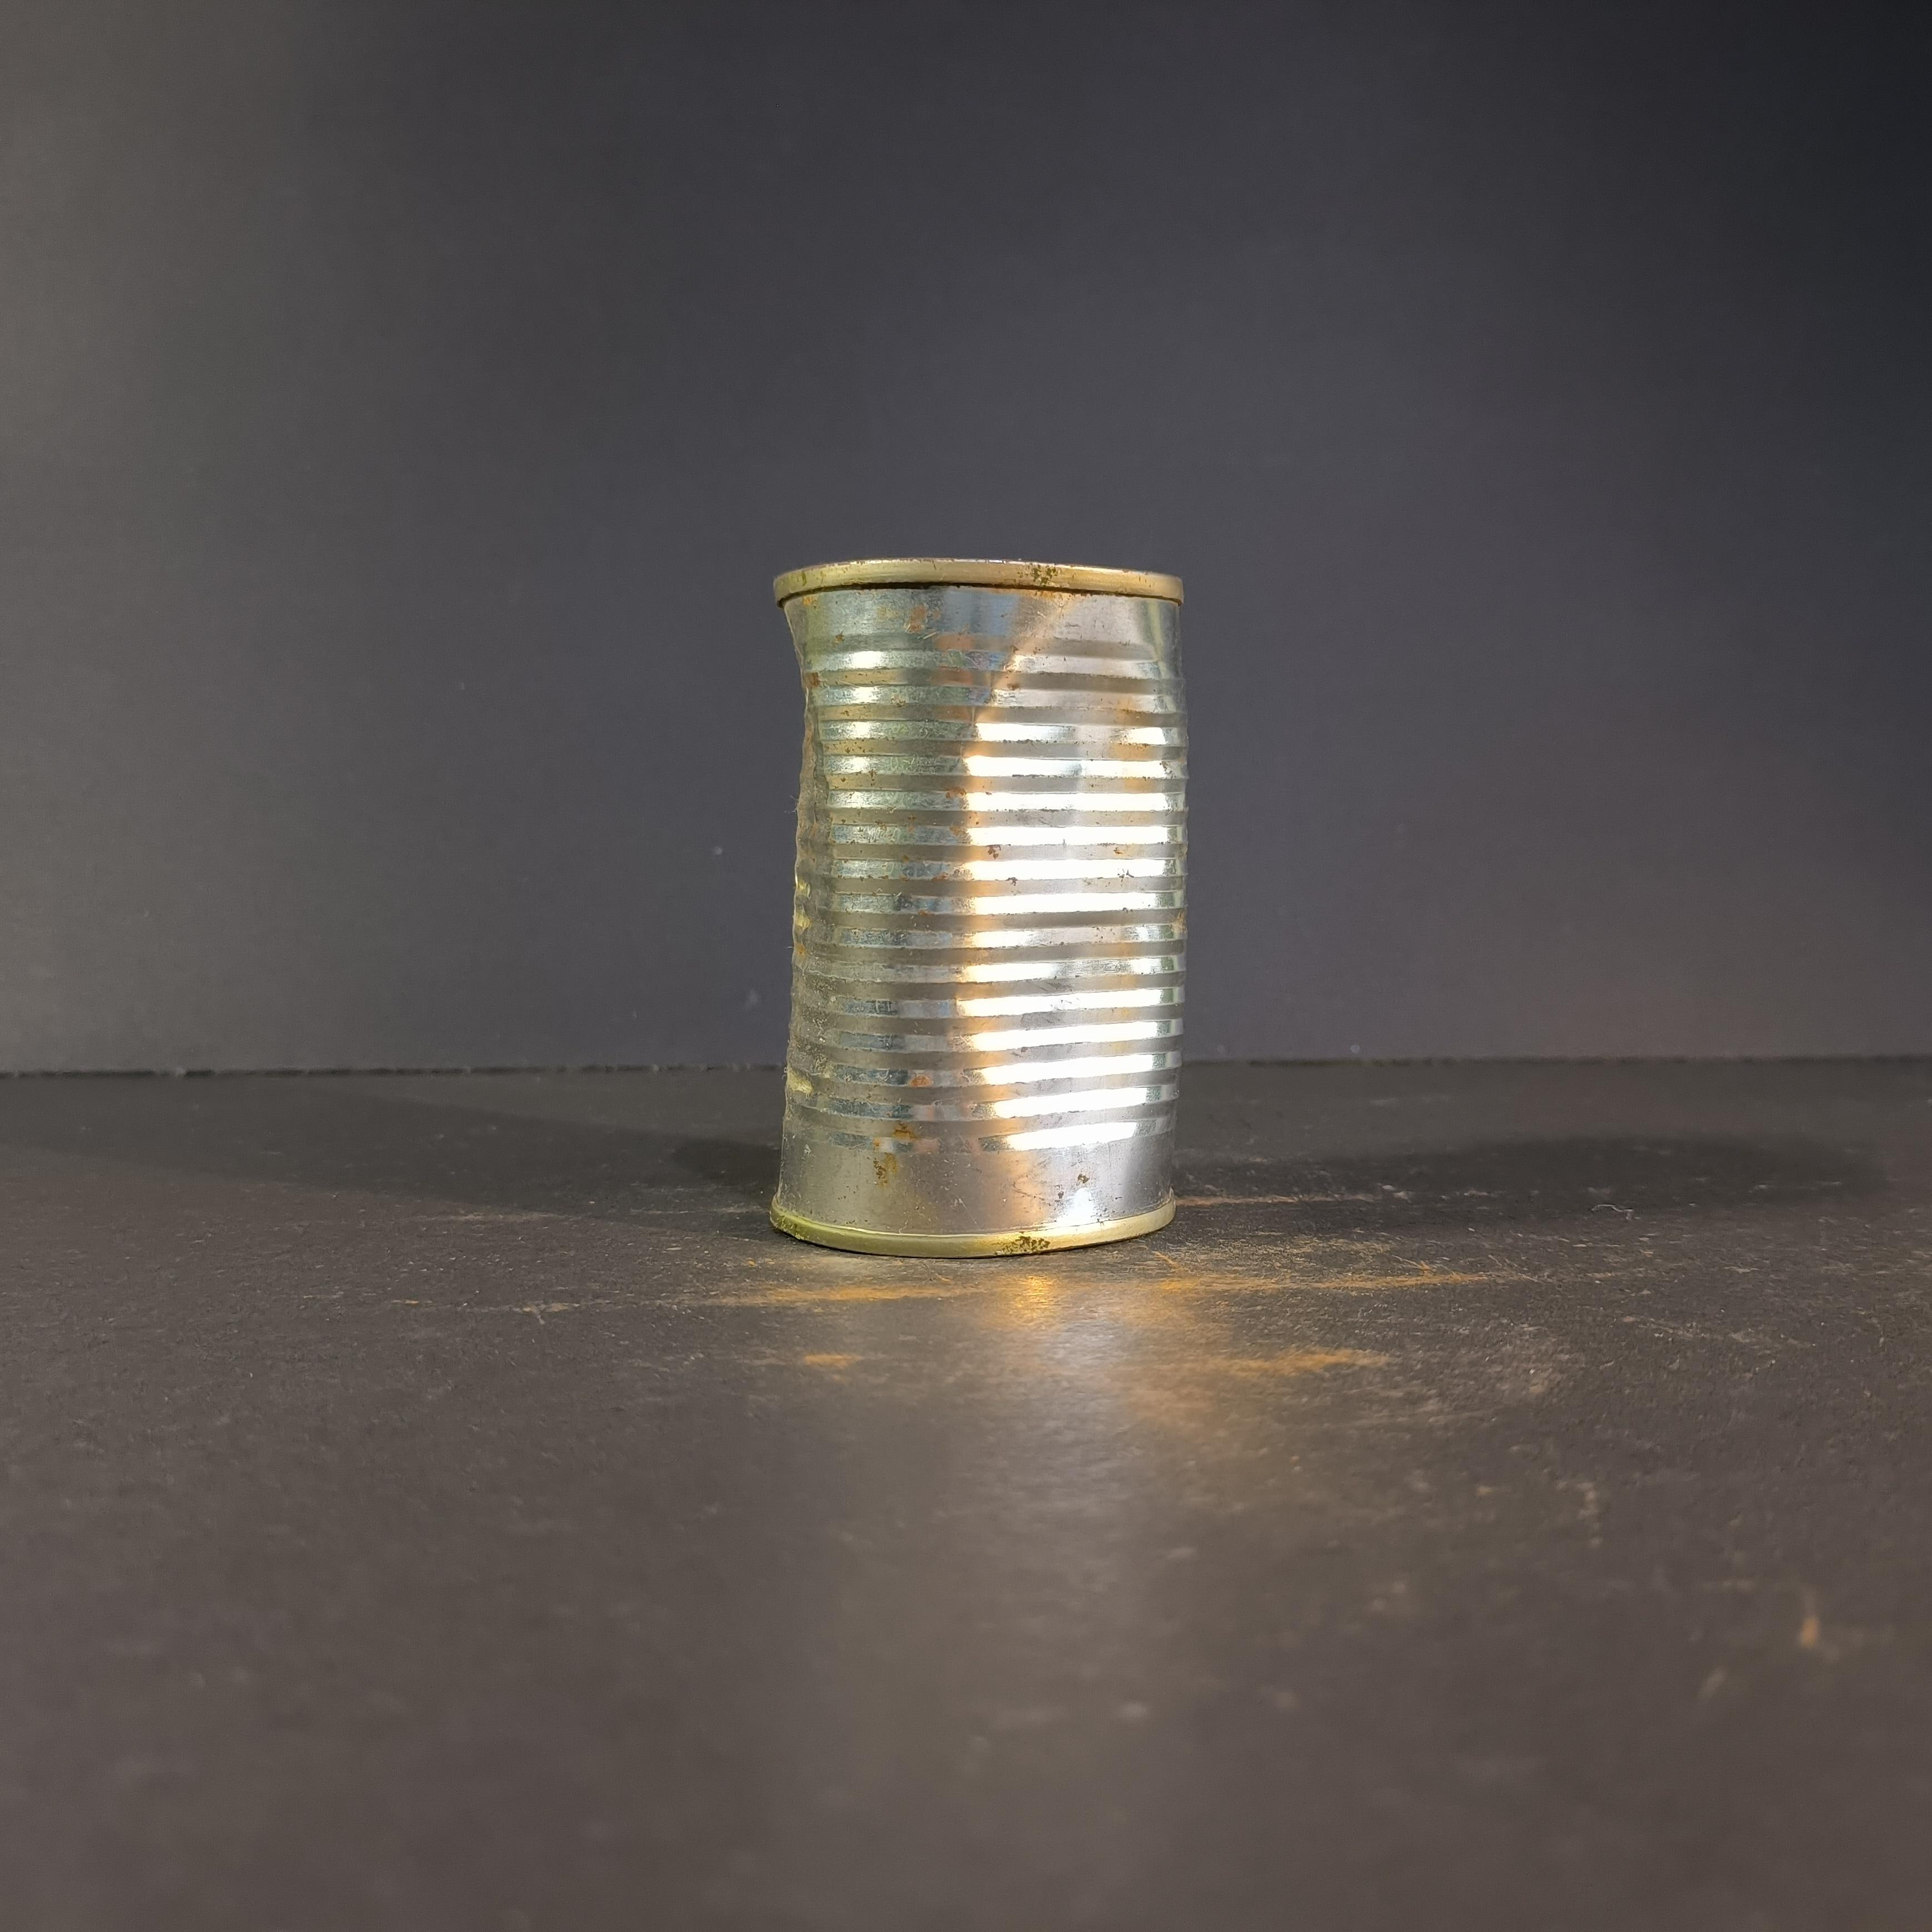Dented: (752, 529, 1230, 1277)
